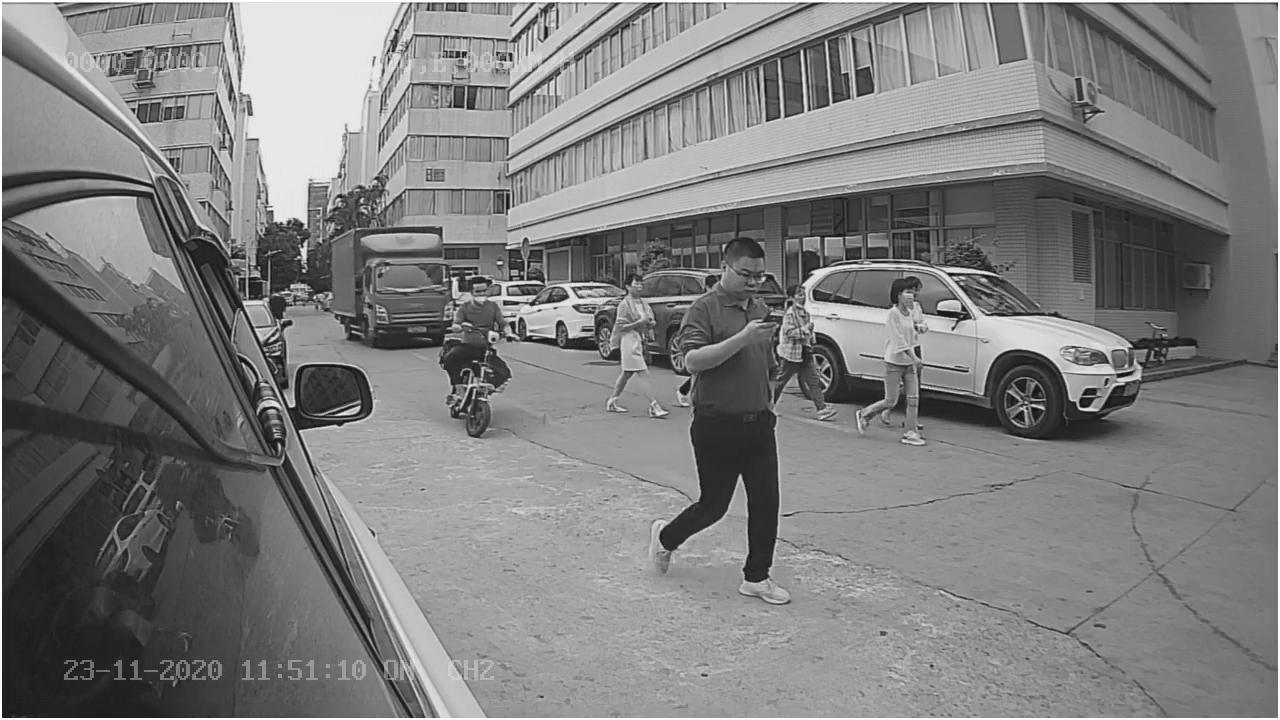person: (647, 226, 807, 604)
